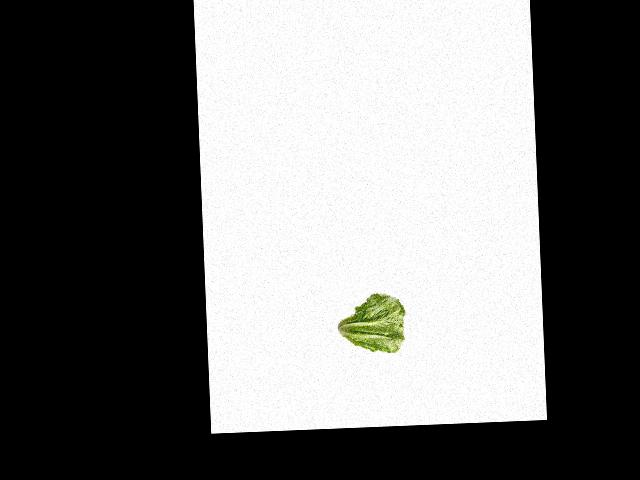lettuce: (332, 290, 408, 352)
